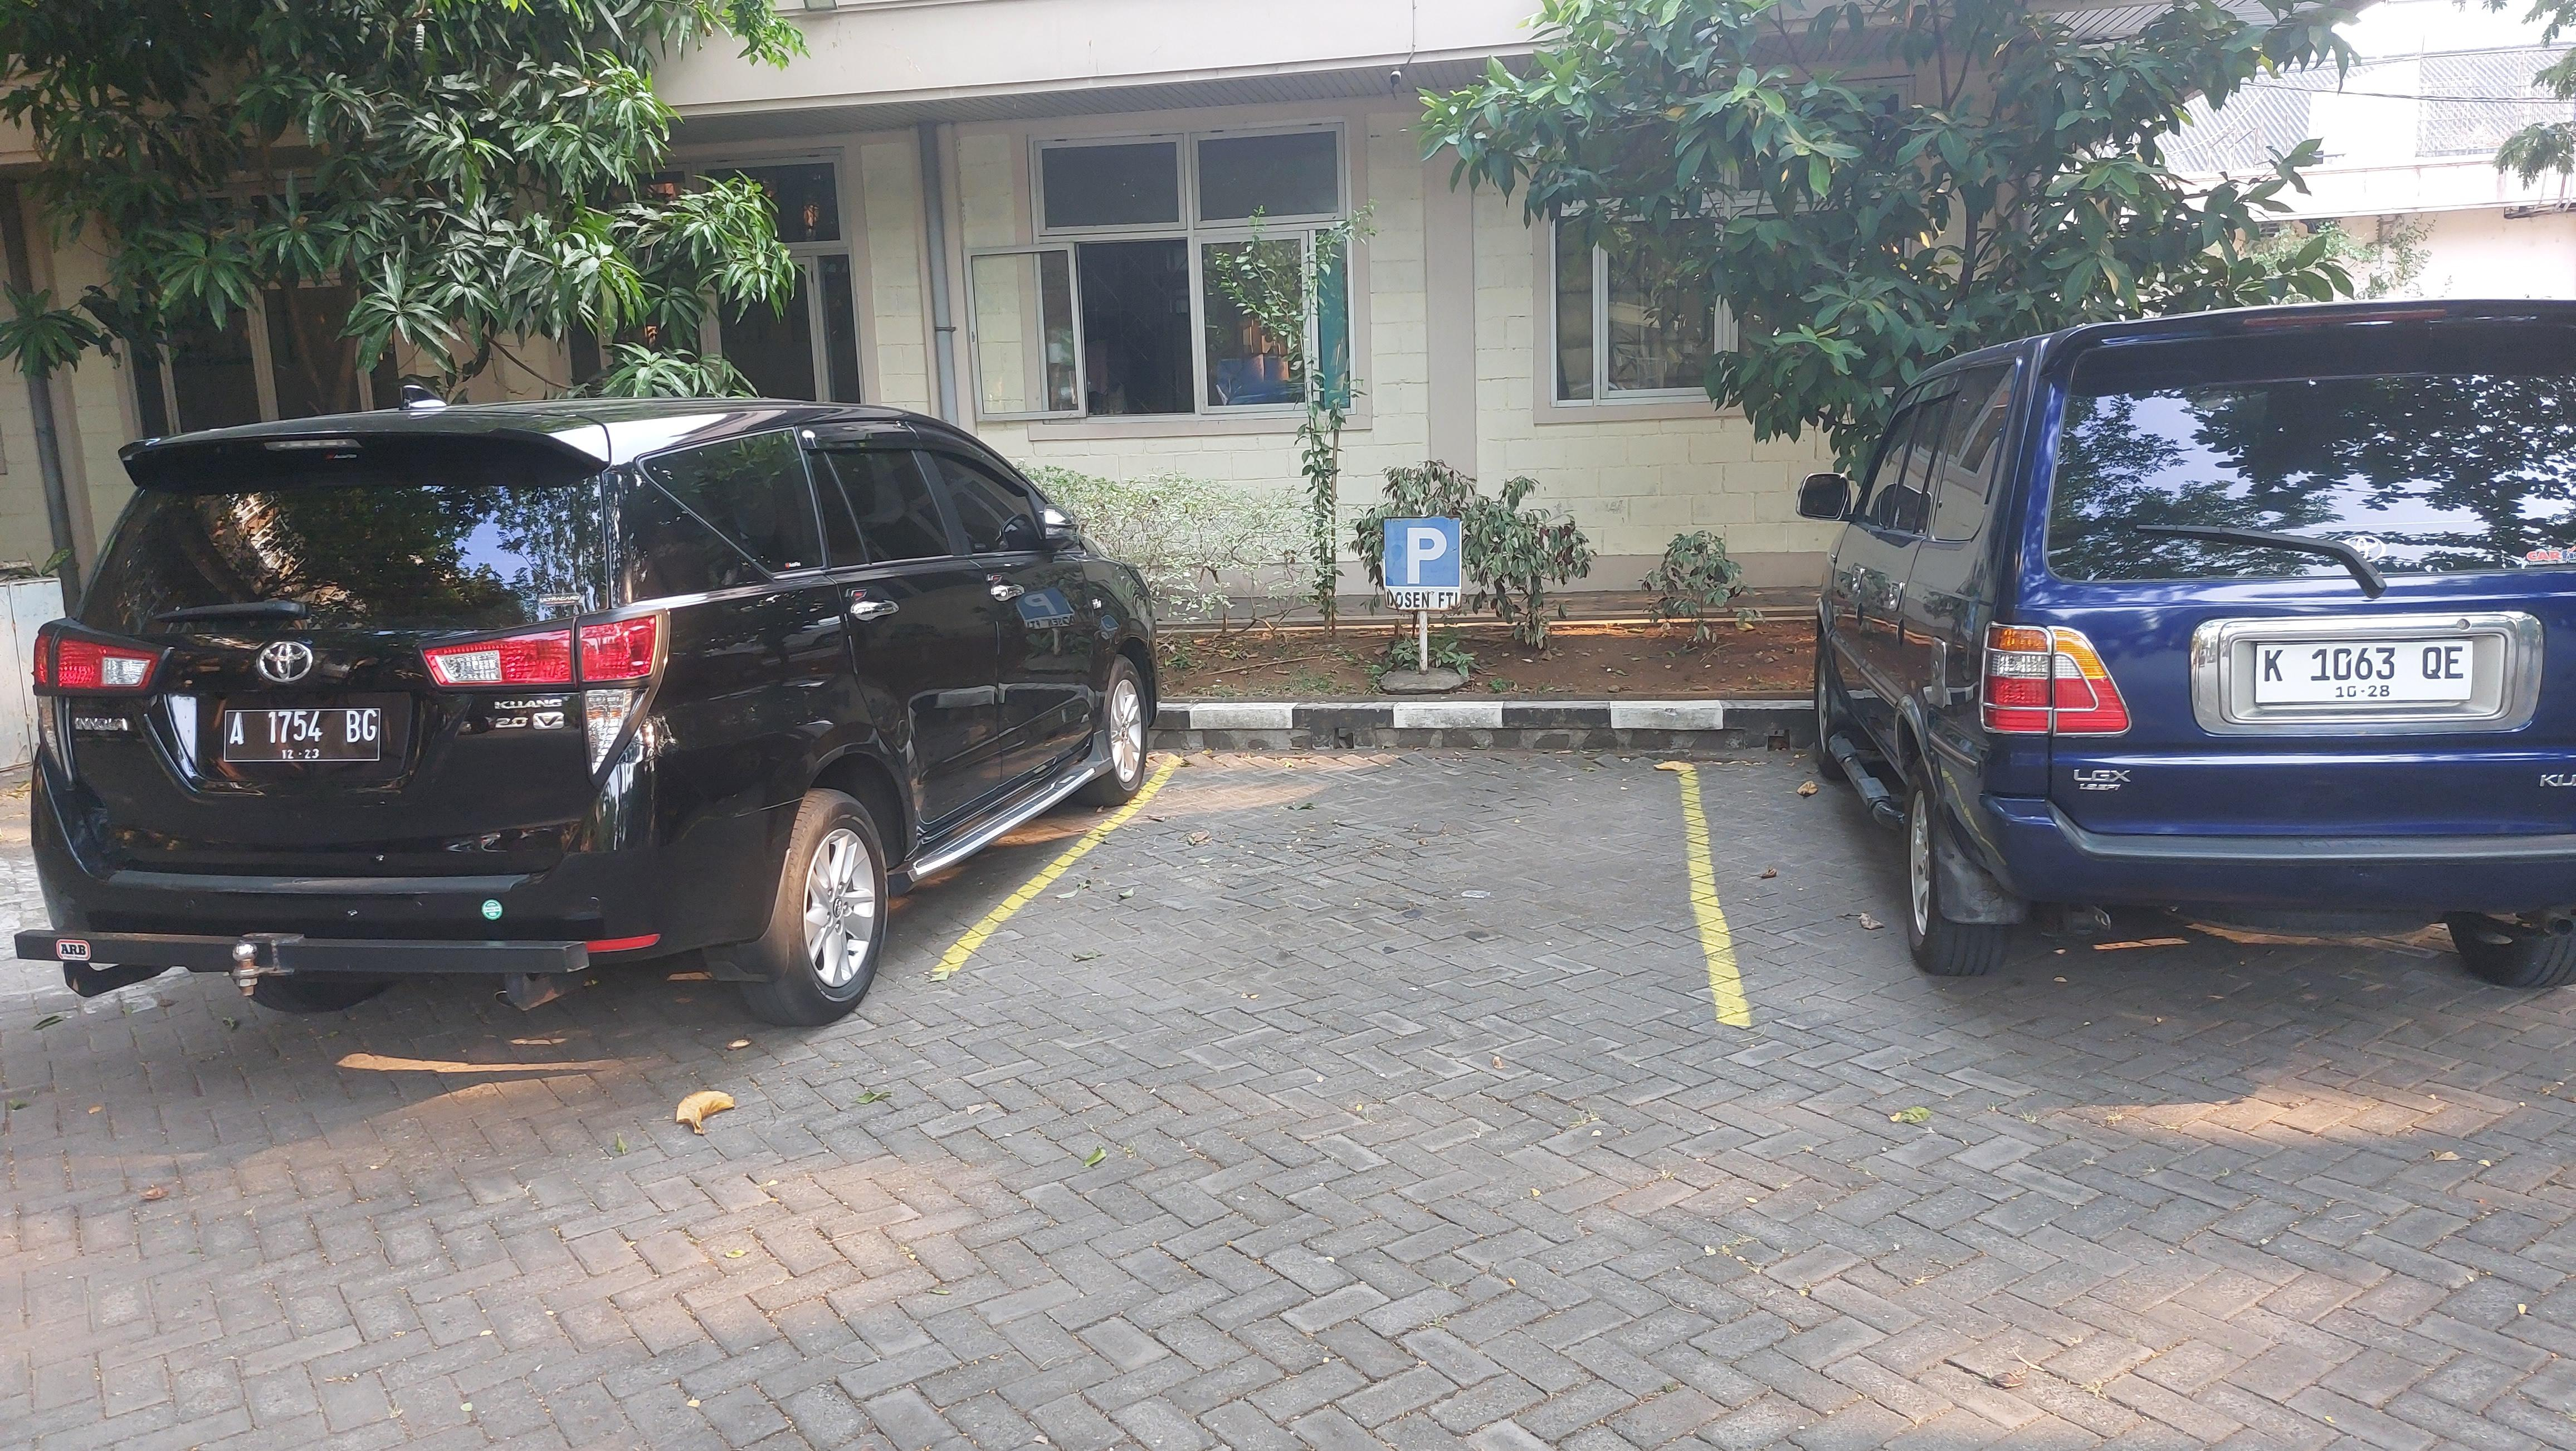empty: (928, 747, 1735, 1028)
occupied: (13, 396, 1177, 1047), (1688, 301, 2576, 1031)
